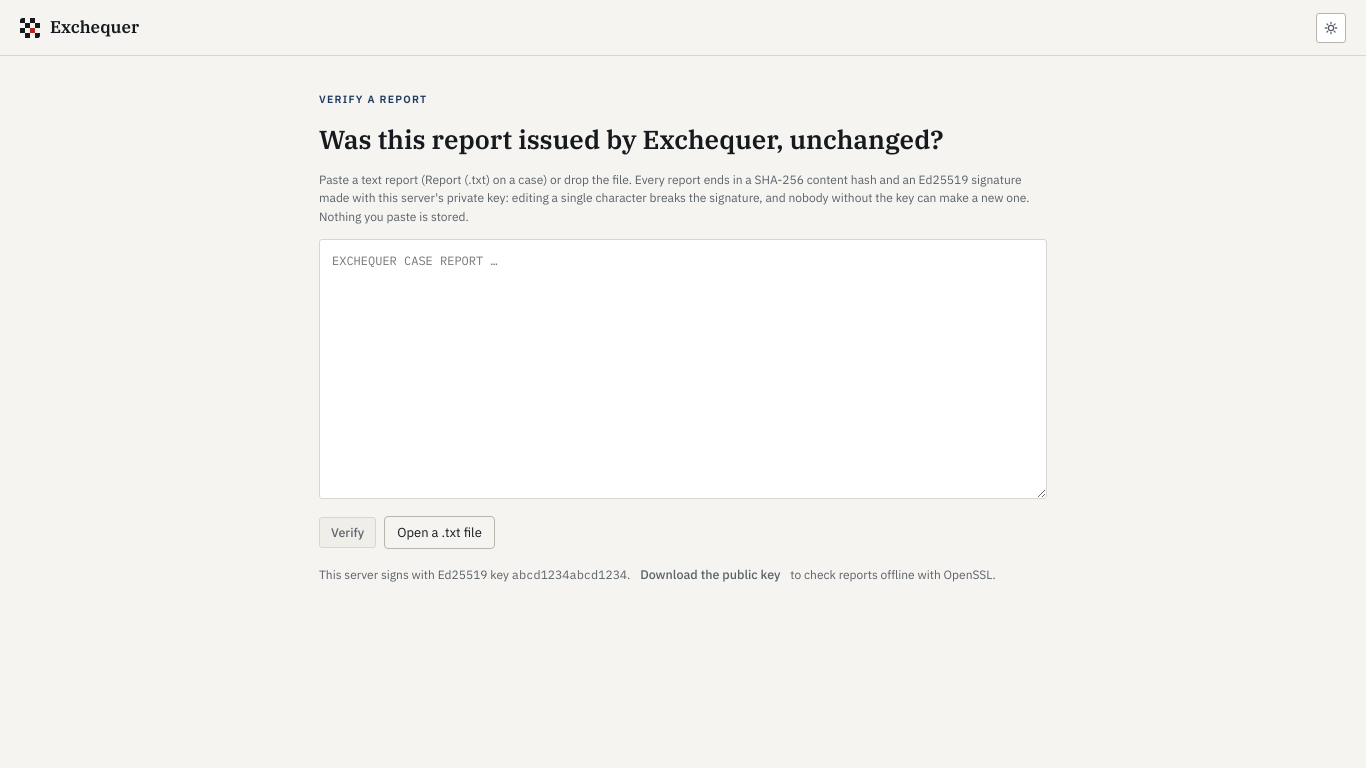
Verify page › sends the pasted report and shows the verdict
Type "EXCHEQUER REPORT" into the text box named "Report text".
click(683, 368); type("EXCHEQUER REPORT")  # box 319,238 -> 1047,498
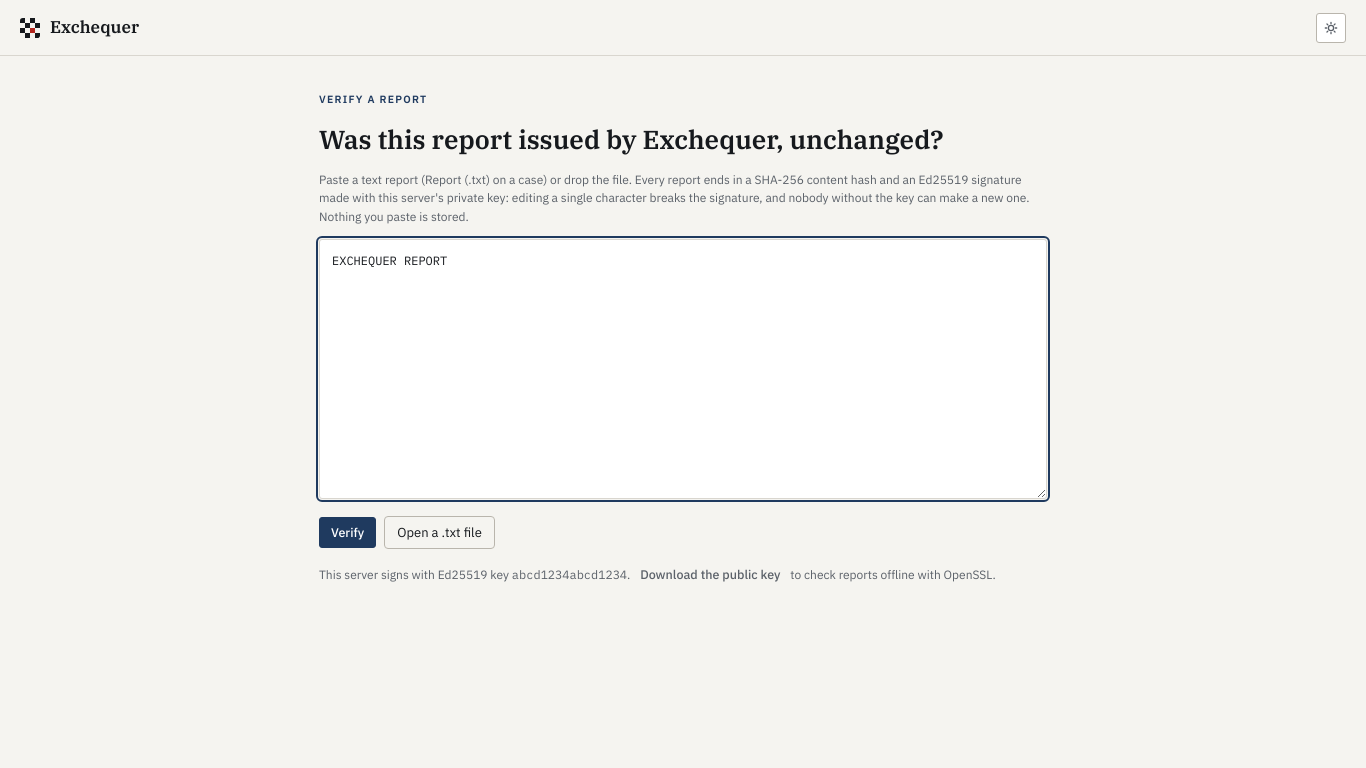
Click the button "Verify".
click(348, 533)  # box 319,517 -> 376,548
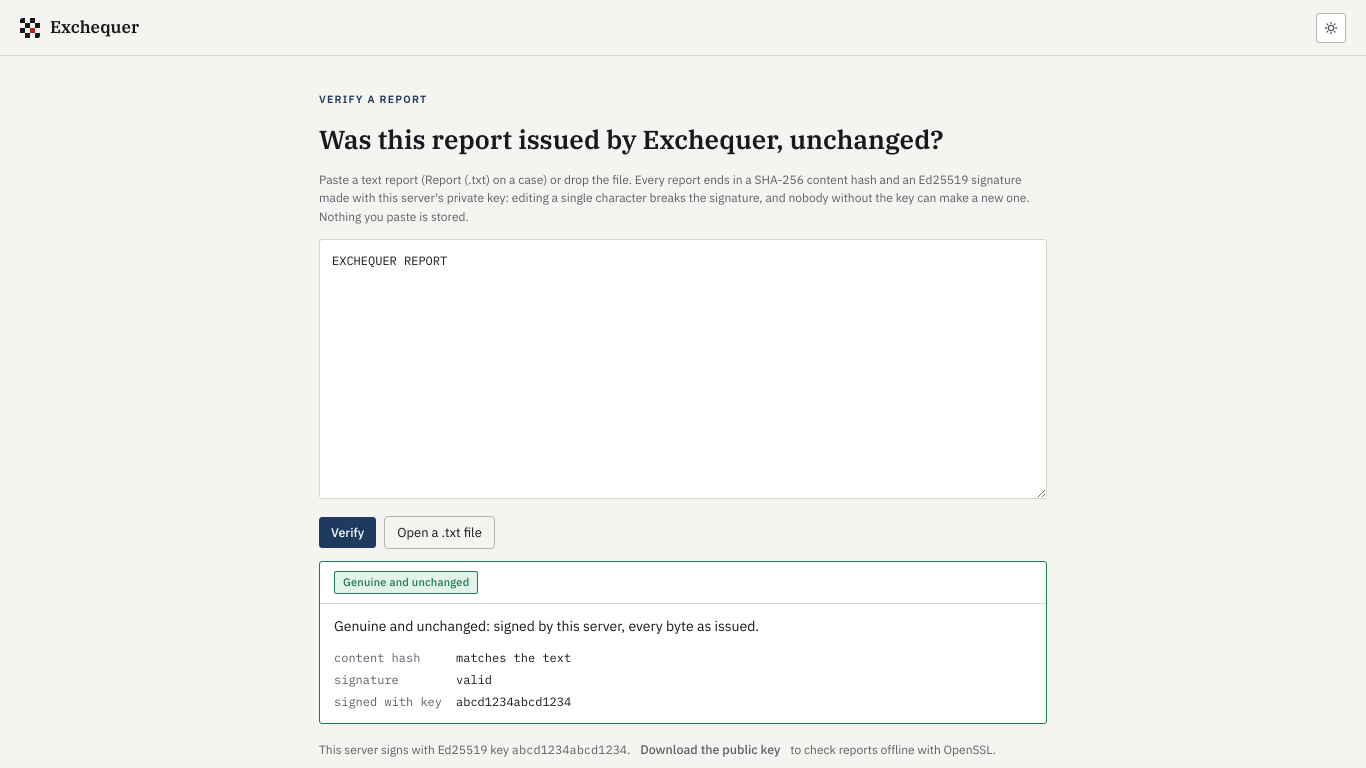
Expected: the text "abcd1234abcd1234" next to "This server signs with Ed25519 key" is shown, 512,742 -> 627,757
Expected: the message shows "Genuine and unchanged", 343,575 -> 469,589
